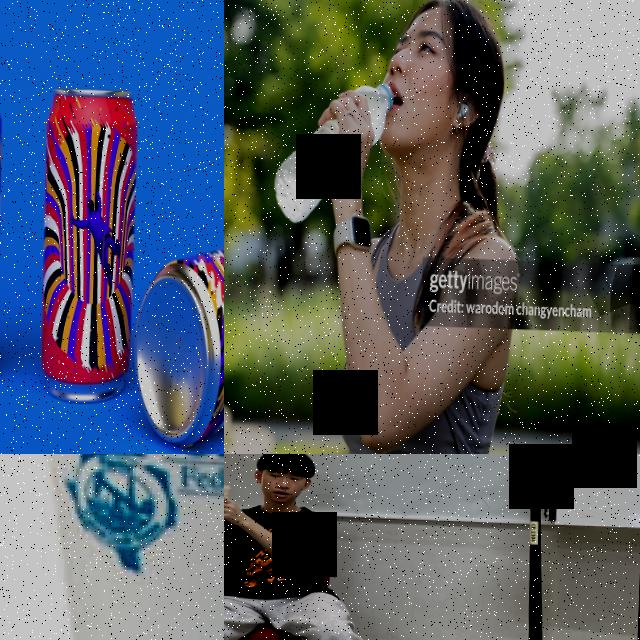bottle: (267, 75, 397, 223)
can: (39, 84, 142, 406), (131, 233, 224, 453)
cup: (0, 454, 224, 640), (224, 481, 232, 520)
